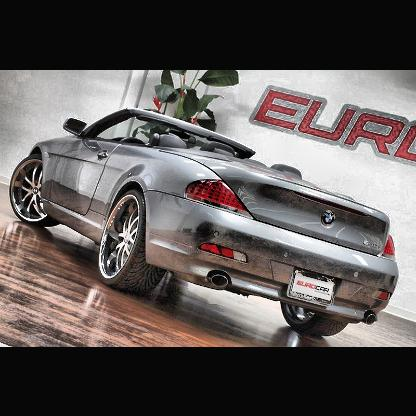BMW 6 Series Convertible 2007: (12, 107, 401, 337)
